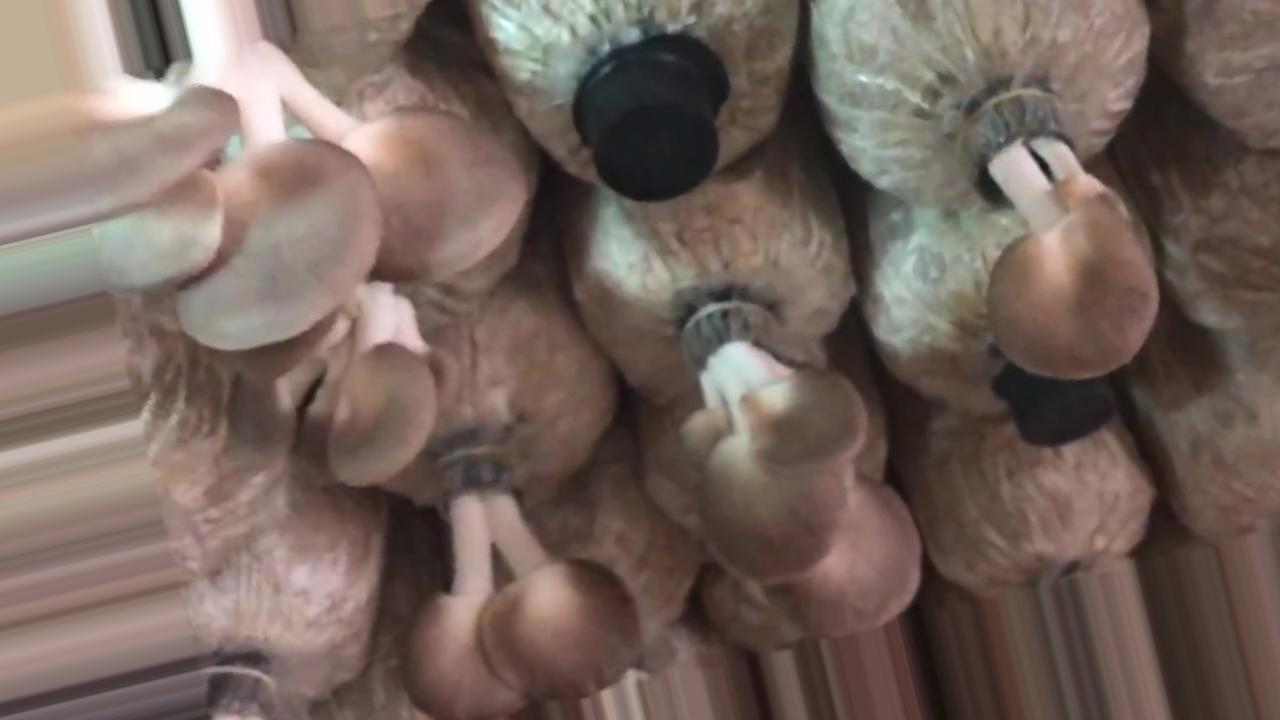nam: (1, 1, 528, 356), (684, 305, 920, 639), (398, 445, 638, 720), (966, 92, 1158, 378), (225, 280, 453, 484)
